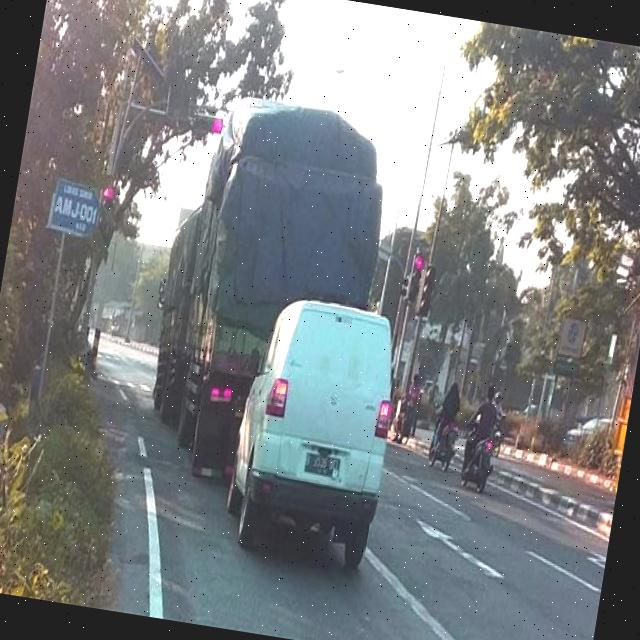Czerwone swiatlo: (403, 254, 424, 308), (195, 113, 222, 135), (100, 185, 116, 212)
